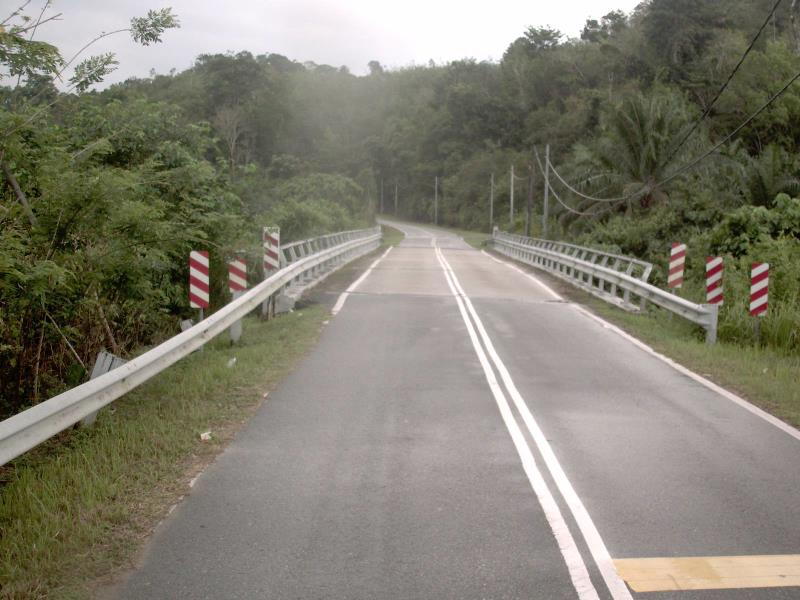traffic_sign: (181, 238, 215, 316), (221, 234, 254, 302), (746, 257, 776, 322), (699, 249, 729, 314), (256, 221, 284, 278), (664, 238, 691, 295)
